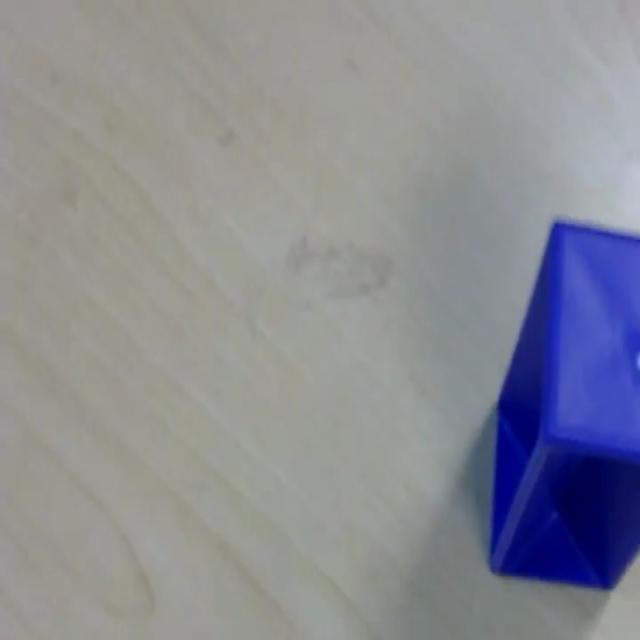blue_block: (488, 213, 638, 591)
